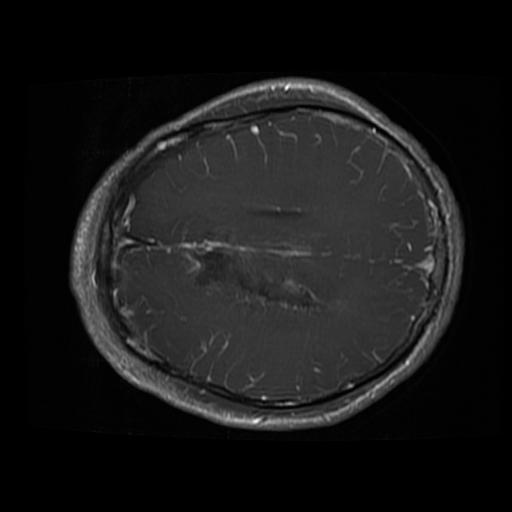glioma: (170, 204, 334, 314)
